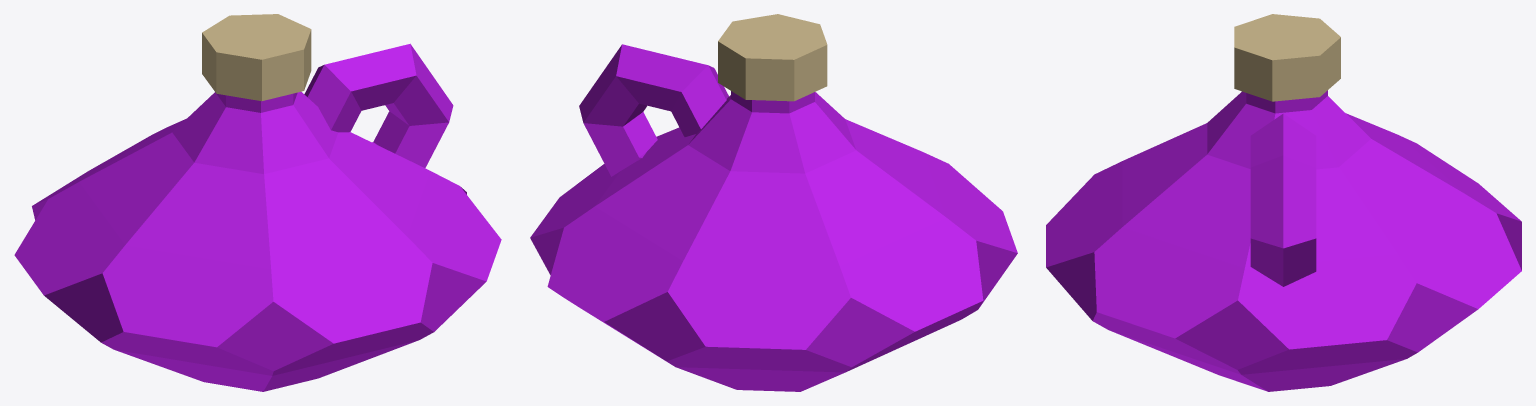
The model's file is ShortHandlePotion.041.fbx.
3 renders of one model, left to right at view 1: azimuth 30°, elevation 25°; view 2: azimuth 150°, elevation 25°; view 3: azimuth 270°, elevation 25°, orthographic.
Visible parts, largest first — view 1: ShortHandlePotion.041; view 2: ShortHandlePotion.041; view 3: ShortHandlePotion.041.
Boxes of the visible parts, x1=… form: ShortHandlePotion.041: x1=14, y1=14, x2=501, y2=391; ShortHandlePotion.041: x1=530, y1=14, x2=1017, y2=391; ShortHandlePotion.041: x1=1046, y1=14, x2=1521, y2=391.
Size of the model in its own units: 17.35 by 12.73 by 16.91.
